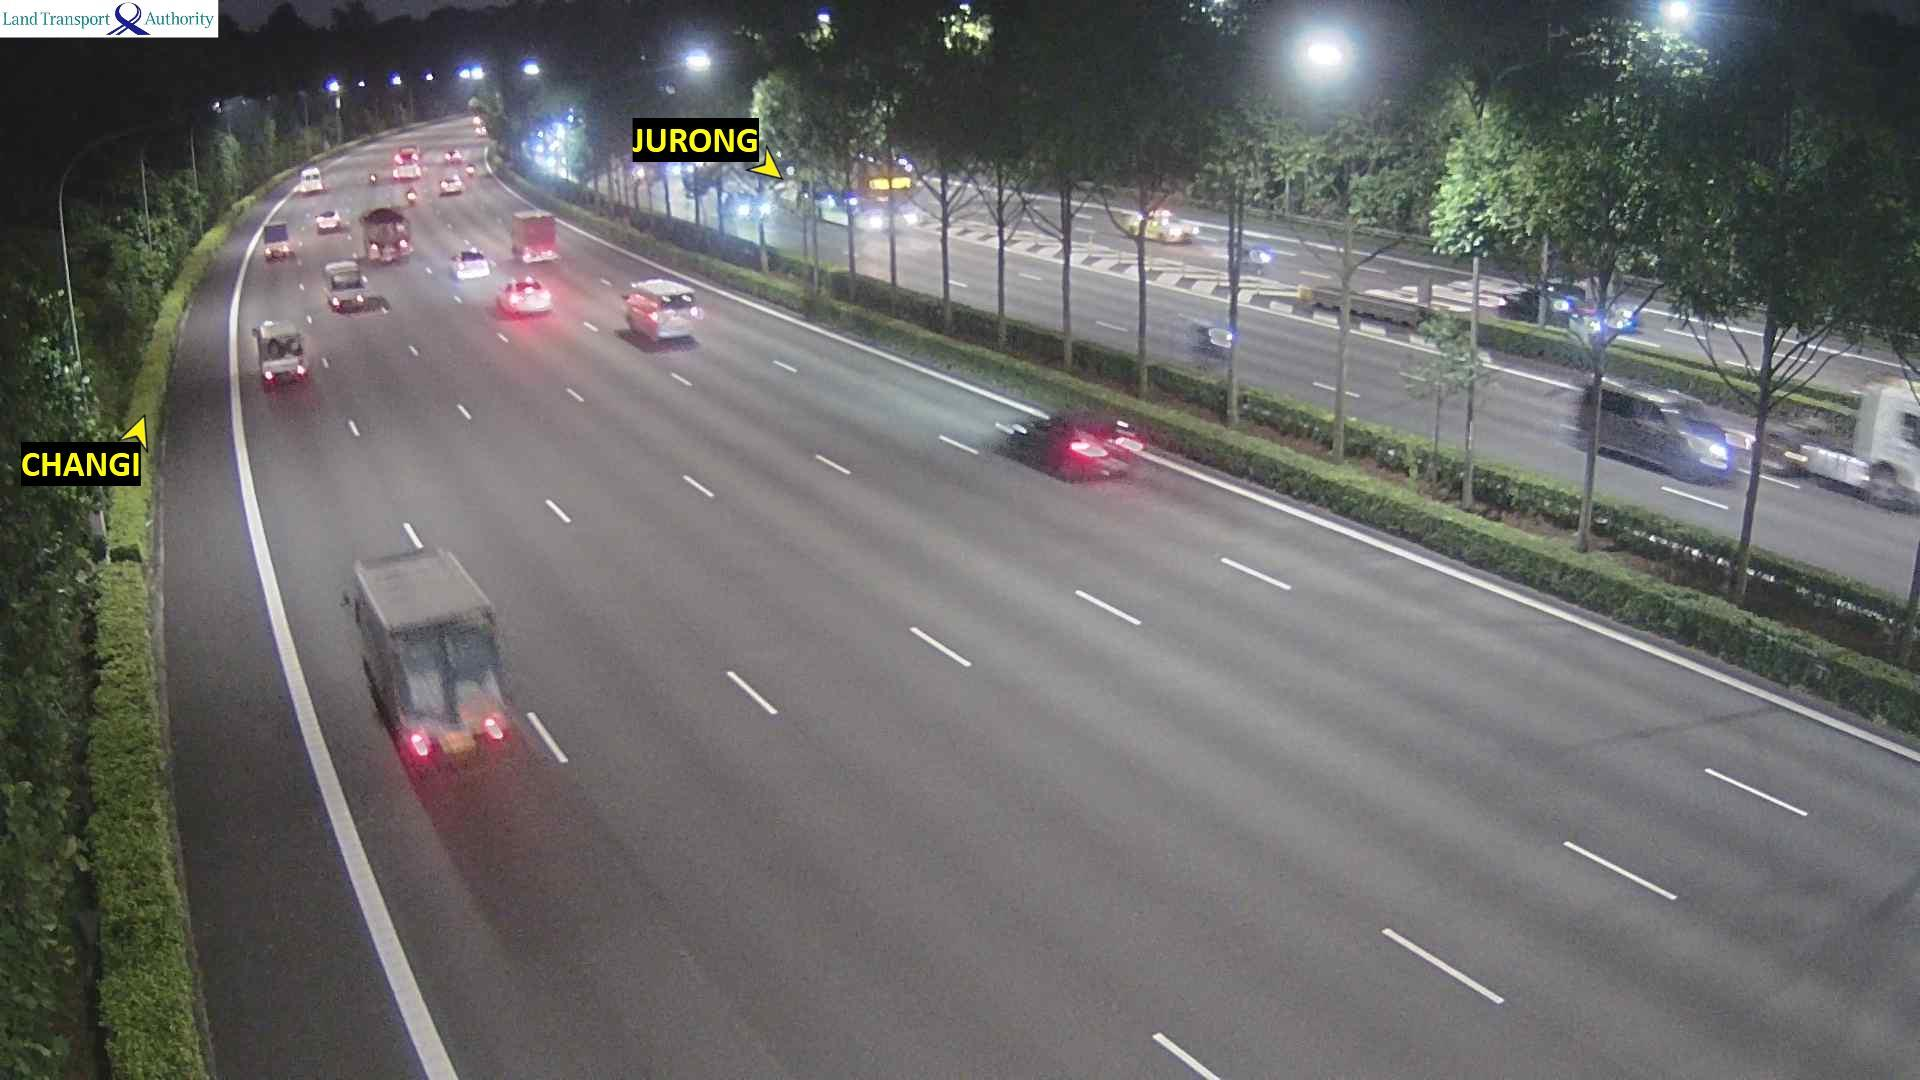incoming: (1654, 396, 1738, 479), (868, 173, 922, 237), (1151, 208, 1200, 244), (727, 193, 769, 224)
